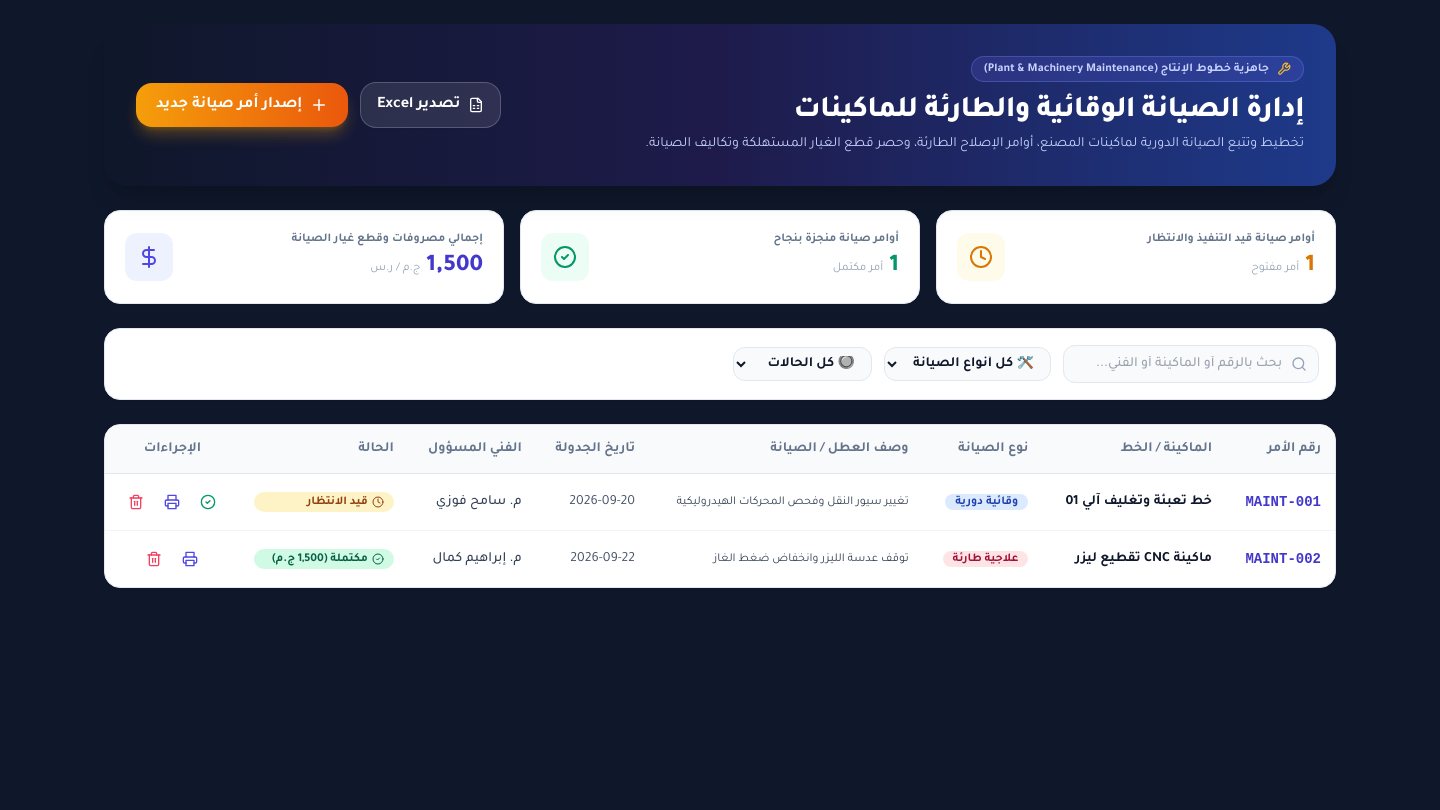
Test: ⚙️ MachineryMaintenanceManager (Manufacturing Maintenance) Tests › يفتح نافذة "إصدار أمر صيانة جديد" ويجهز رقم الأمر التلقائي والماكينات المستهدفة
The width and height of the screenshot is (1440, 810).
Expected: the text "MAINT-001" is shown, top-left (1226, 474), bottom-right (1335, 530)
Click the button "إصدار أمر صيانة جديد". click: (242, 105)
box: top-left (136, 83), bottom-right (348, 127)
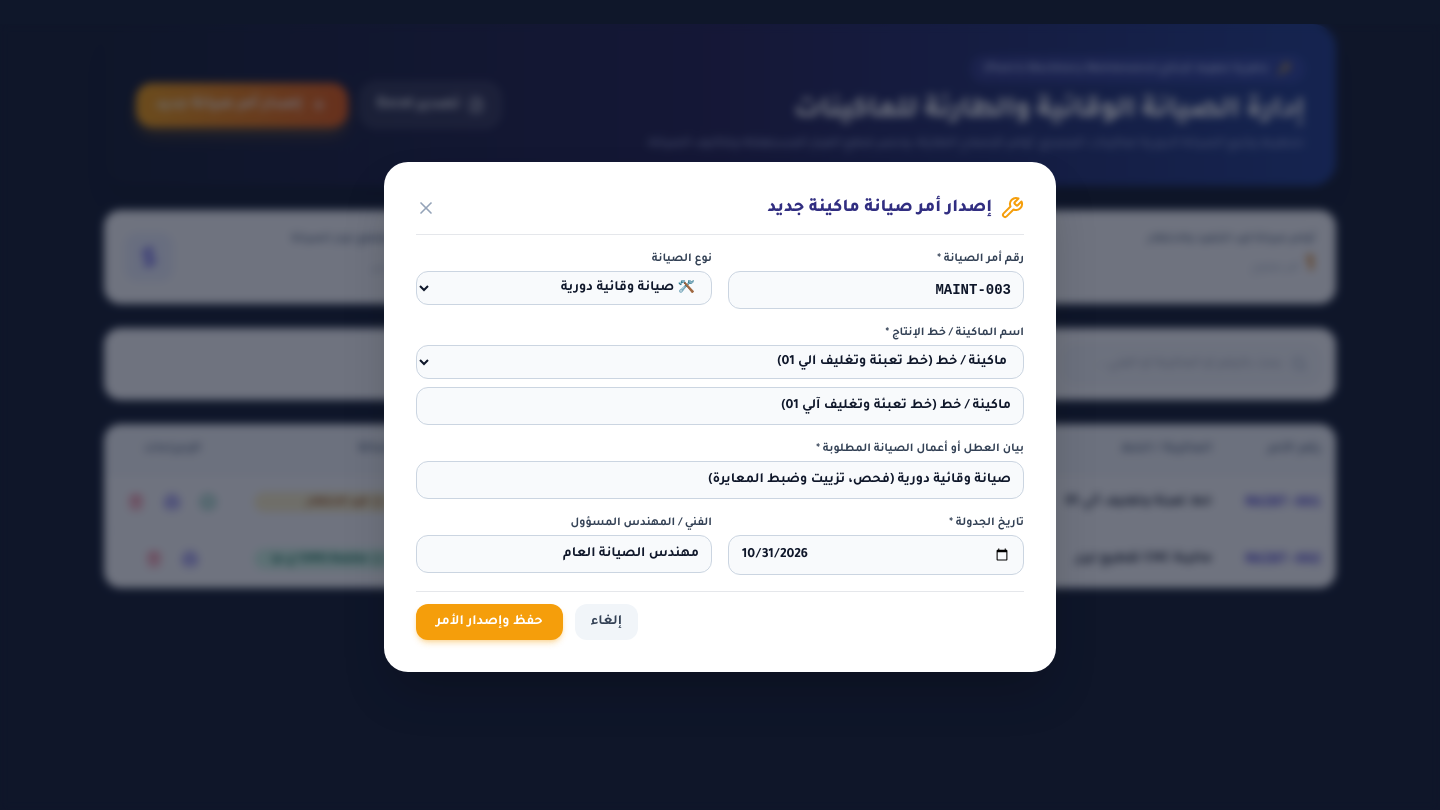
Now the text "إصدار أمر صيانة ماكينة جديد" is shown, box top-left (768, 194), bottom-right (992, 222)
Now the text "اسم الماكينة / خط الإنتاج *" is shown, box top-left (886, 327), bottom-right (1024, 339)
